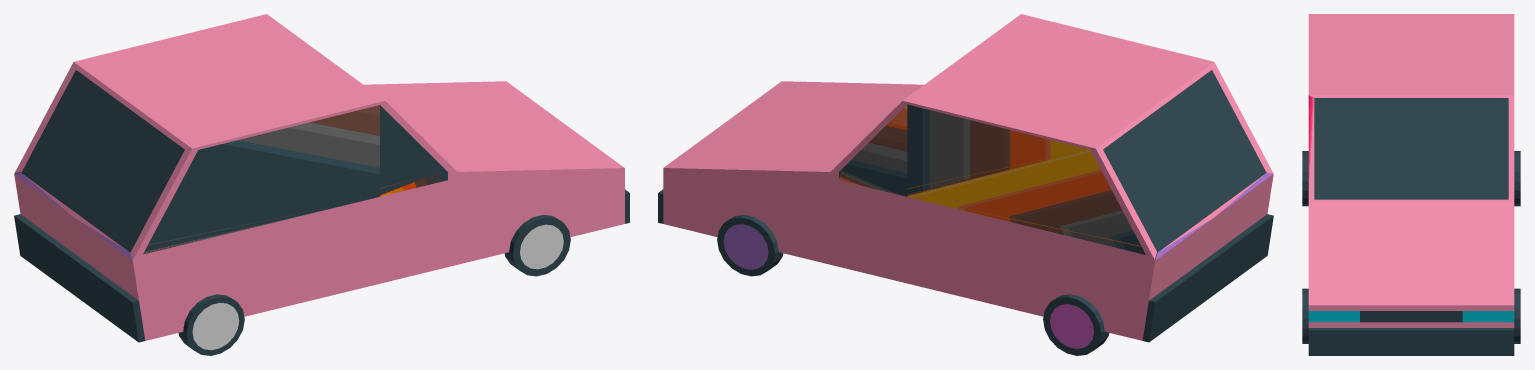
The model's file is car_3_4.dae.
3 views of the same model, side by side, from view 1: azimuth 30°, elevation 25°; view 2: azimuth 150°, elevation 25°; view 3: azimuth 270°, elevation 25° (orthographic). The views are drawn at different scales.
Visible parts, largest first — view 1: CAR_03.005; view 2: CAR_03.005; view 3: CAR_03.005.
Part boxes in pixels (x1=…): CAR_03.005: x1=14, y1=14, x2=629, y2=355; CAR_03.005: x1=658, y1=14, x2=1273, y2=355; CAR_03.005: x1=1302, y1=14, x2=1520, y2=355.
Size of the model in its own units: 4.5 by 1.97 by 1.81.
1 material, 1 textured.
